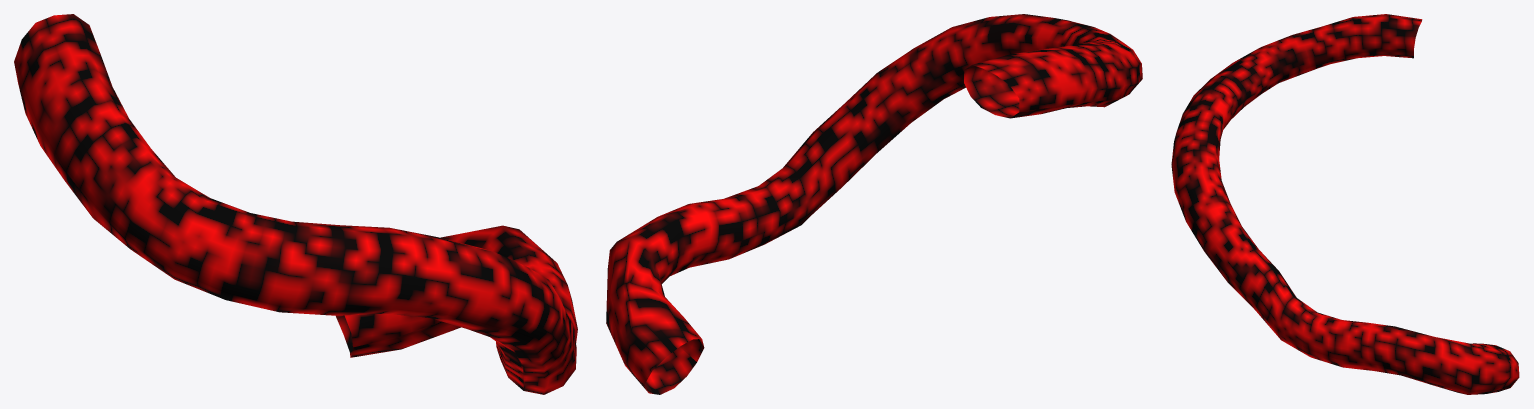
The model's file is SM_CarcassBigB_Projec_01_HJS.fbx.
3 views of the same model, side by side, from view 1: azimuth 30°, elevation 25°; view 2: azimuth 150°, elevation 25°; view 3: azimuth 270°, elevation 25° (orthographic). The views are drawn at different scales.
Parts seen in each view (by area): view 1: SM_CarcassBigB_Projec_01_HJS; view 2: SM_CarcassBigB_Projec_01_HJS; view 3: SM_CarcassBigB_Projec_01_HJS.
Part boxes in pixels (x1=…): SM_CarcassBigB_Projec_01_HJS: x1=14, y1=14, x2=577, y2=394; SM_CarcassBigB_Projec_01_HJS: x1=606, y1=14, x2=1142, y2=394; SM_CarcassBigB_Projec_01_HJS: x1=1171, y1=14, x2=1519, y2=394.
Size of the model in its own units: 56.2 by 44.97 by 52.67.
